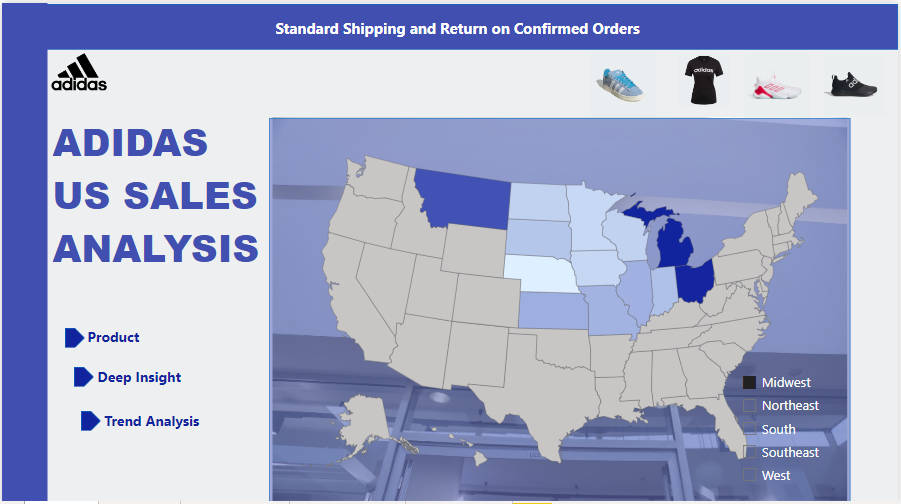

This screenshot's page, from the dashboard's own definition file:
{"tool":"powerbi","page":{"name":"Home ","canvas":[1280,720],"ordinal":0},"visuals":[{"type":"shape","box":[0,1.4,1279.8,65.2],"z":0},{"type":"shape","box":[0,0,65.2,720],"z":1000},{"type":"image","box":[834.8,63.8,106.3,104.9],"z":2000},{"type":"image","box":[959.5,41.1,86.5,137.5],"z":3000},{"type":"image","box":[1153.7,66.6,126.1,97.8],"z":4000},{"type":"image","box":[381.3,154.5,830.6,565.5],"z":5000},{"type":"image","box":[1046,65.2,123.3,103.5],"z":6000},{"type":"image","box":[65.2,65.2,89.3,65.2],"z":7000},{"type":"textbox","box":[66.6,154.5,314.6,246.6],"z":8000},{"type":"shape","box":[381.3,164.4,830.6,551.3],"z":9000},{"type":"shape","box":[89.3,463.9,28.3,28.3],"z":10000},{"type":"shapeMap","fields":{"Category":["Location.State"],"Value":["Data Sales Adidas.Total_Sales"]},"box":[381.3,164.4,830.6,551.3],"z":11000},{"type":"shape","box":[103.5,520.6,28.3,28.3],"z":12000},{"type":"shape","box":[113.4,582.5,28.3,28.3],"z":13000},{"type":"textbox","box":[385.5,15.6,575.4,51],"z":14000},{"type":"slicer","fields":{"Values":["Location.Region"]},"box":[1046,520.2,165.8,181.4],"z":15000},{"type":"actionButton","box":[117.6,455,83.6,43.9],"z":16000},{"type":"actionButton","box":[131.8,511.7,129,43.9],"z":17000},{"type":"actionButton","box":[141.7,574,144.6,43.9],"z":18000}]}

Visuals, with their boxes in screenshot pixels (x1, y1, x2, y2), scaled from the page's 1280x720 canvas onto the 901x504 screenshot:
shape: 0 1 900 47
shape: 0 0 46 503
image: 588 45 662 118
image: 675 29 736 125
image: 812 47 900 115
image: 268 108 853 503
image: 736 46 823 118
image: 46 46 109 91
textbox: 47 108 268 281
shape: 268 115 853 501
shape: 63 325 83 345
shapeMap - Location.State x Data Sales Adidas.Total_Sales: 268 115 853 501
shape: 73 364 93 384
shape: 80 408 100 428
textbox: 271 11 676 47
slicer - Location.Region: 736 364 853 491
actionButton: 83 318 142 349
actionButton: 93 358 184 389
actionButton: 100 402 202 433
